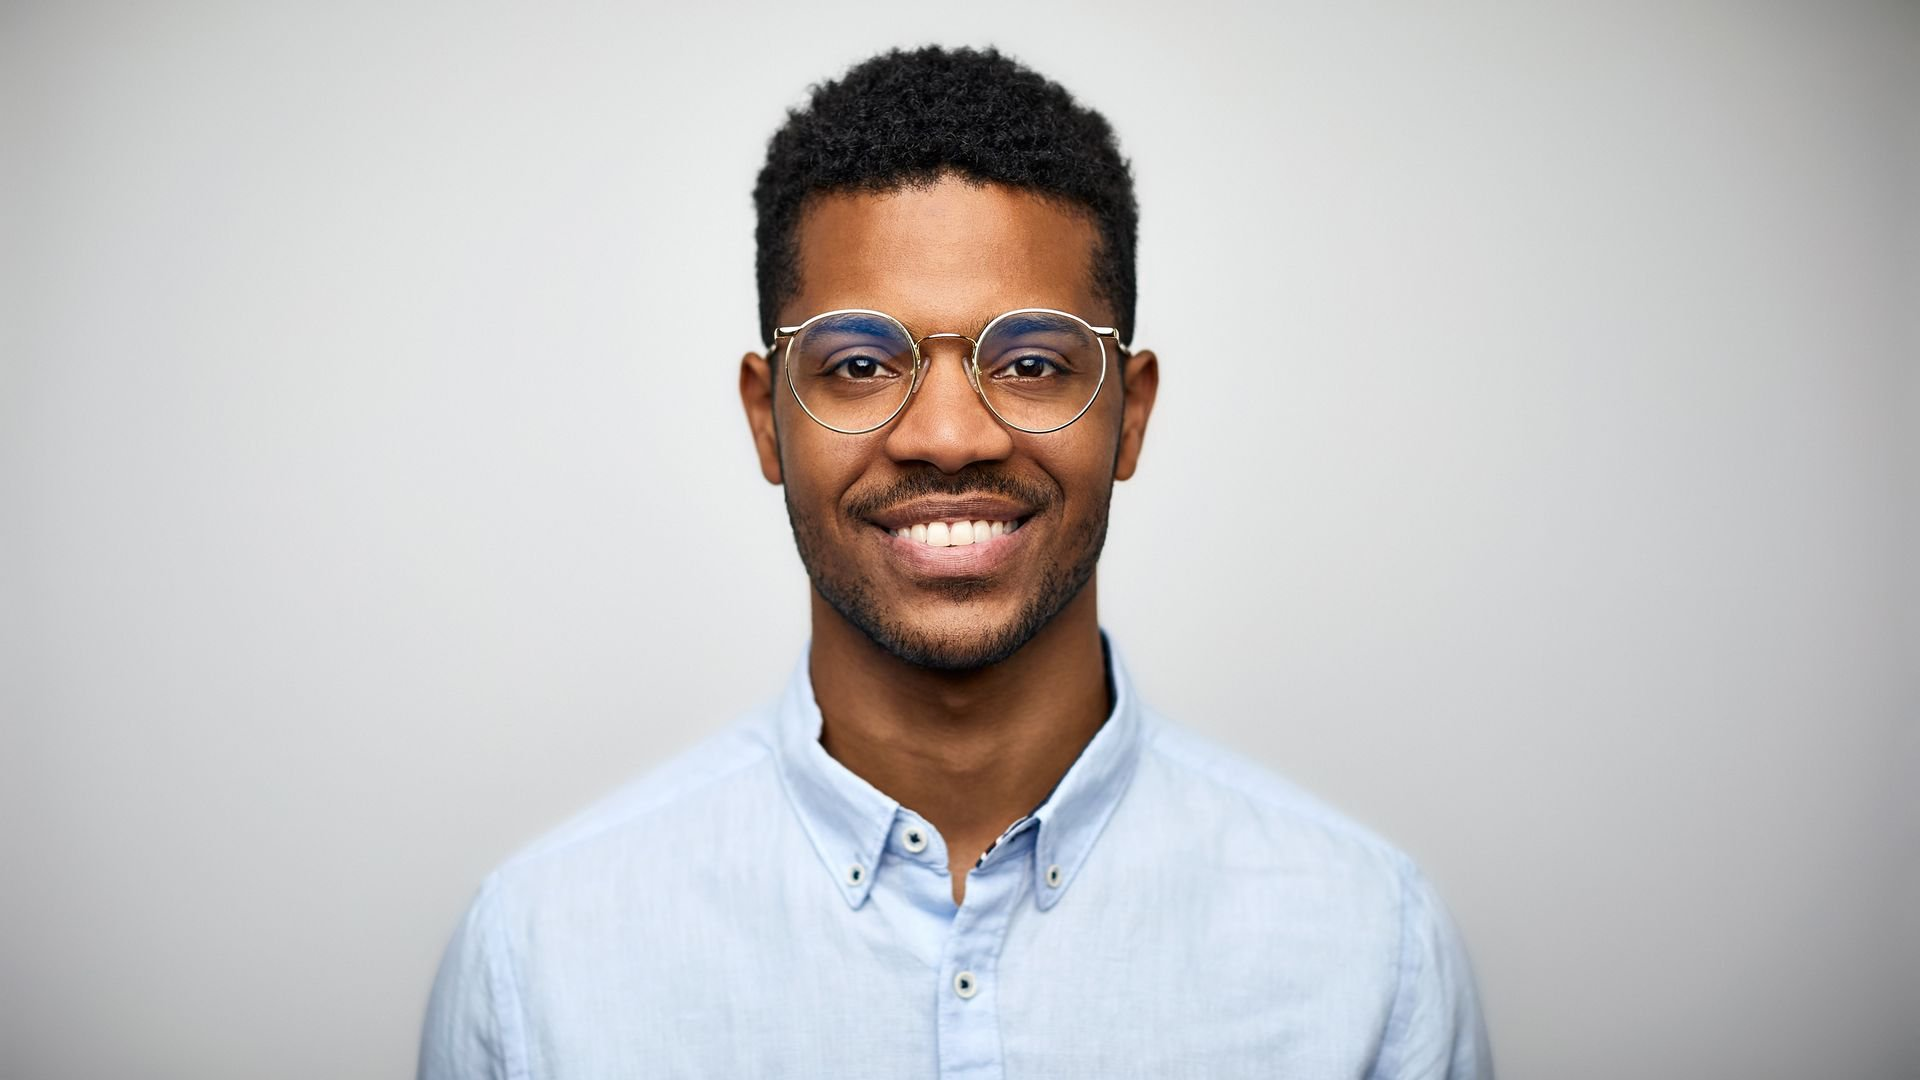noMask: (705, 35, 1173, 688)
